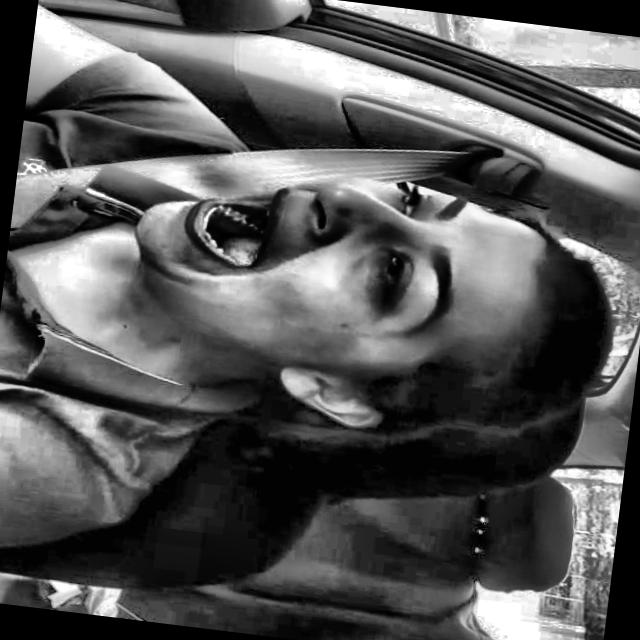open_eyes: (362, 238, 422, 309), (383, 163, 434, 227)
open_mouth: (178, 169, 297, 288)
